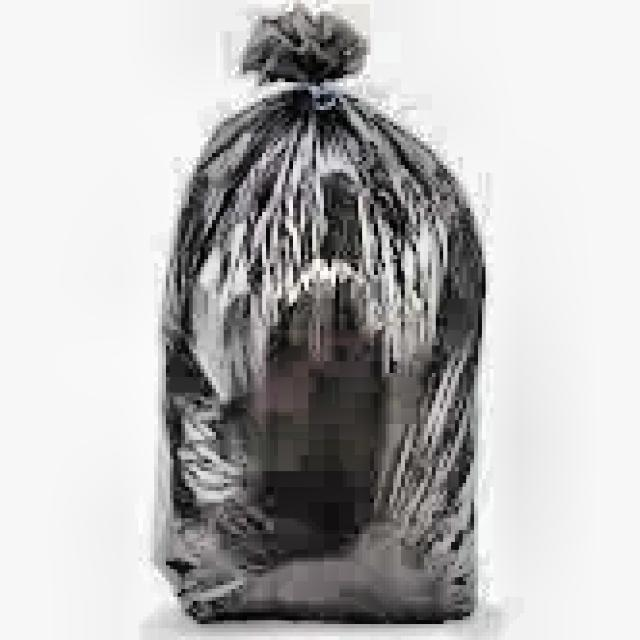Trashbag: (143, 7, 499, 625)
